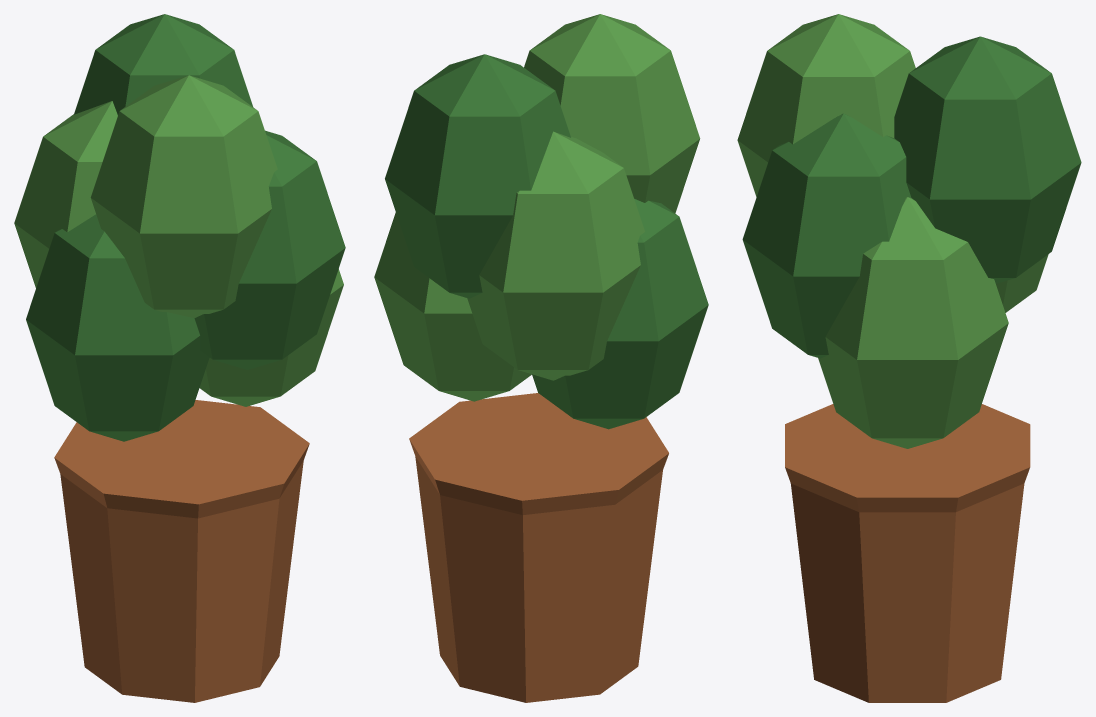
File: potted_plant.glb
3 renders of one model, left to right at view 1: azimuth 30°, elevation 25°; view 2: azimuth 150°, elevation 25°; view 3: azimuth 270°, elevation 25°, orthographic. The views are drawn at different scales.
Visible parts, largest first — view 1: potted_plant; view 2: potted_plant; view 3: potted_plant.
Boxes of the visible parts, x1,y1,x2,y2 form: potted_plant: (14, 14, 345, 702); potted_plant: (374, 14, 708, 702); potted_plant: (737, 14, 1081, 702).
Size of the model in its own units: 0.5159 by 1.11 by 0.5442.
